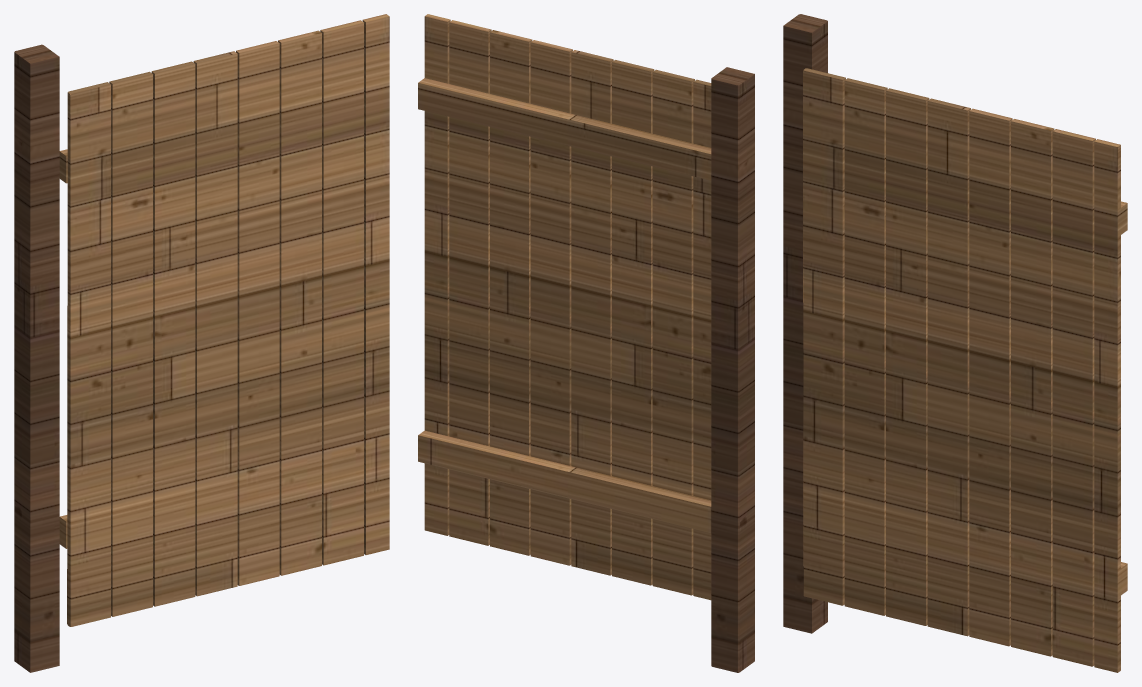
File: fence_h.glb
3 renders of one model, left to right at view 1: azimuth 30°, elevation 25°; view 2: azimuth 150°, elevation 25°; view 3: azimuth 330°, elevation 25°, orthographic. The views are drawn at different scales.
Parts seen in each view (by area): view 1: fence_h_wood, fence_h_dkwood; view 2: fence_h_wood, fence_h_dkwood; view 3: fence_h_wood, fence_h_dkwood.
Boxes of the visible parts, x1,y1,x2,y2 form: fence_h_wood: (59,14,389,626); fence_h_dkwood: (14,44,59,672); fence_h_wood: (418,14,711,600); fence_h_dkwood: (711,67,754,672); fence_h_wood: (803,68,1127,672); fence_h_dkwood: (783,14,827,633).
Bounding box in the file's own units: 1.2 × 2 × 0.16.
Materials: 2 (2 with a texture image).
